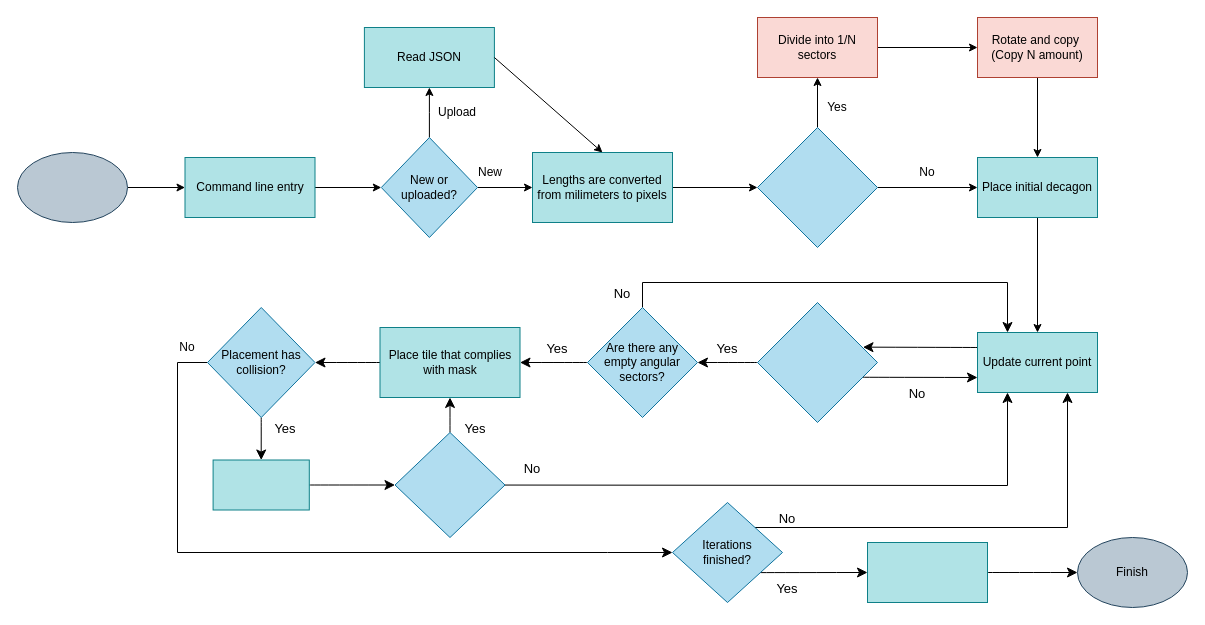
Image size: 1205x625. Some labels were removed from this diagram. Here are the shapes that lost their labels. From the top down, the centre of each, then its label:
At point (72, 187): "Start".
At point (817, 187): "Symmetry mode?".
At point (817, 362): "Is current point within defined canvas?".
At point (260, 484): "Undo".
At point (449, 485): "Any retries left?".
At point (927, 572): "Export (JSON, DXF, SVG)".
